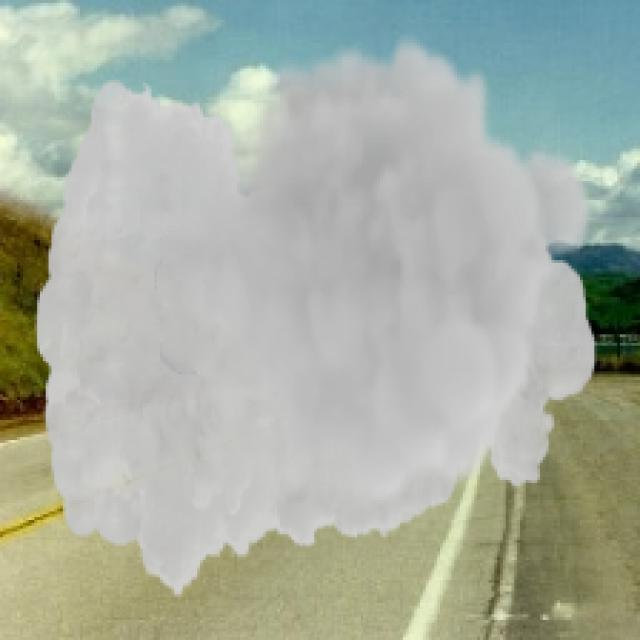smoke: (34, 34, 597, 600)
